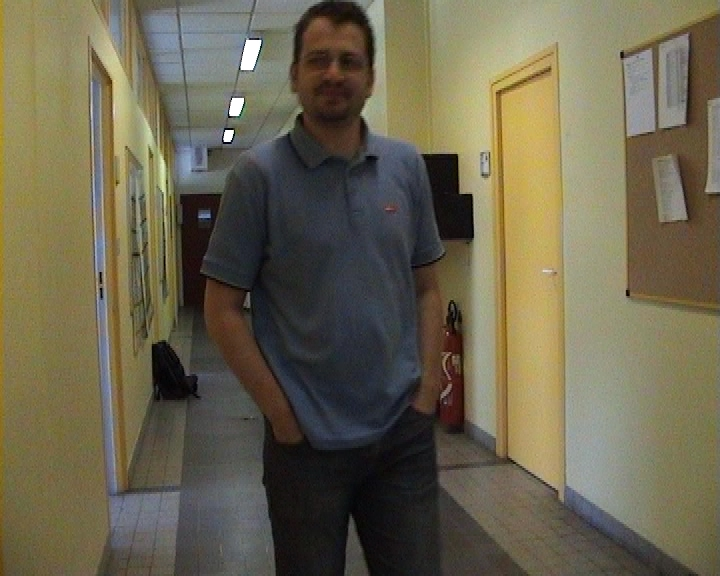leave bag unattended: (133, 323, 222, 416)
